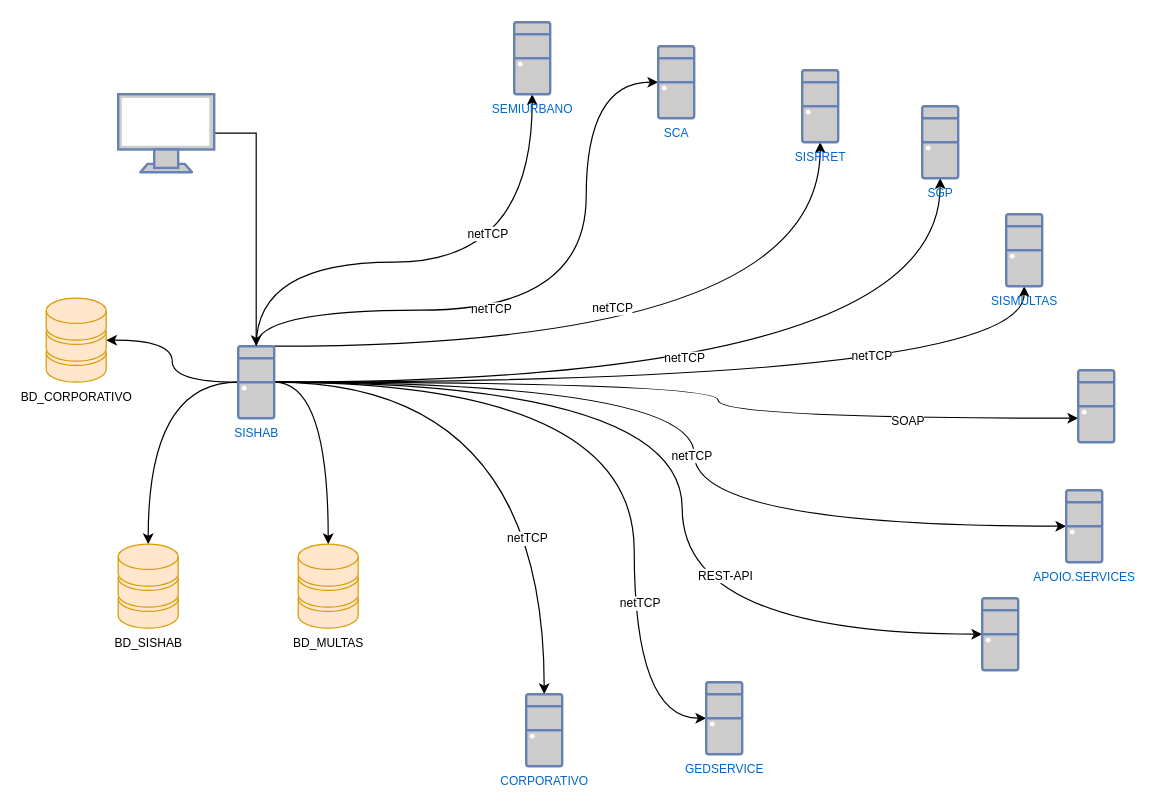
Some shapes in this 1156 by 809 pixel diagram are drawn without their labels. Each missing label, with the centre of its shape:
APOIOv2: [999,633]
WSRENAVAM: [1095,405]
